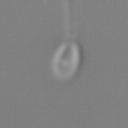normal: (61, 1, 83, 44)
